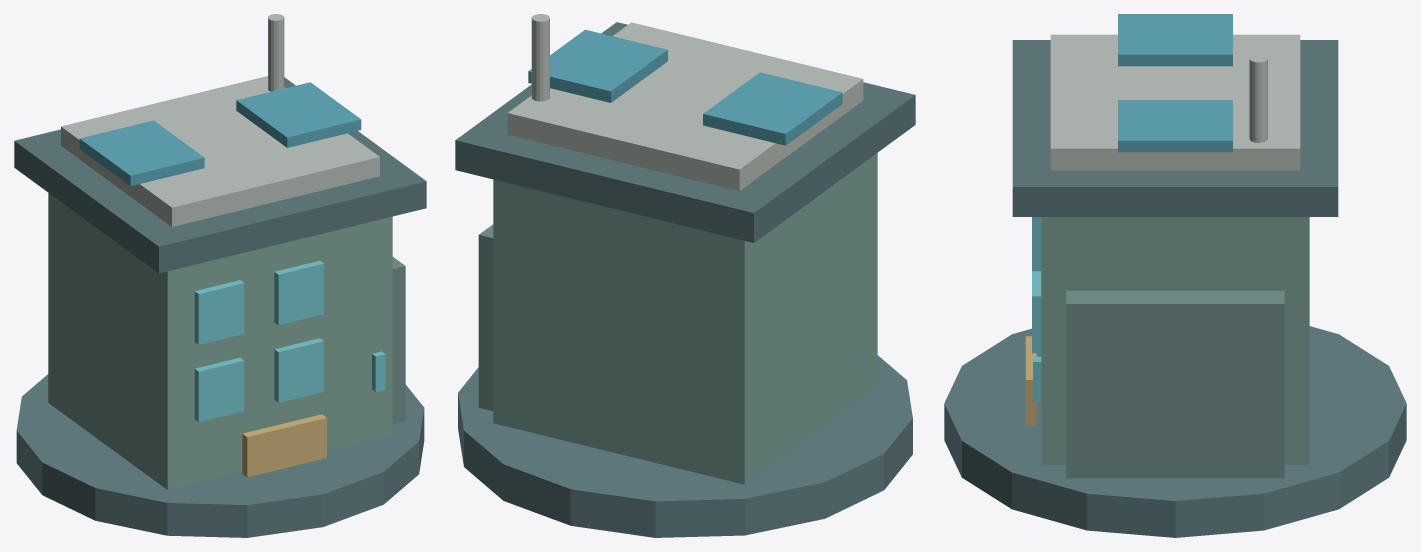
File: housing.glb
3 renders of one model, left to right at view 1: azimuth 30°, elevation 25°; view 2: azimuth 150°, elevation 25°; view 3: azimuth 270°, elevation 25°, orthographic. The views are drawn at different scales.
Bounding box in the file's own units: 2.5 × 2.58 × 2.5.
